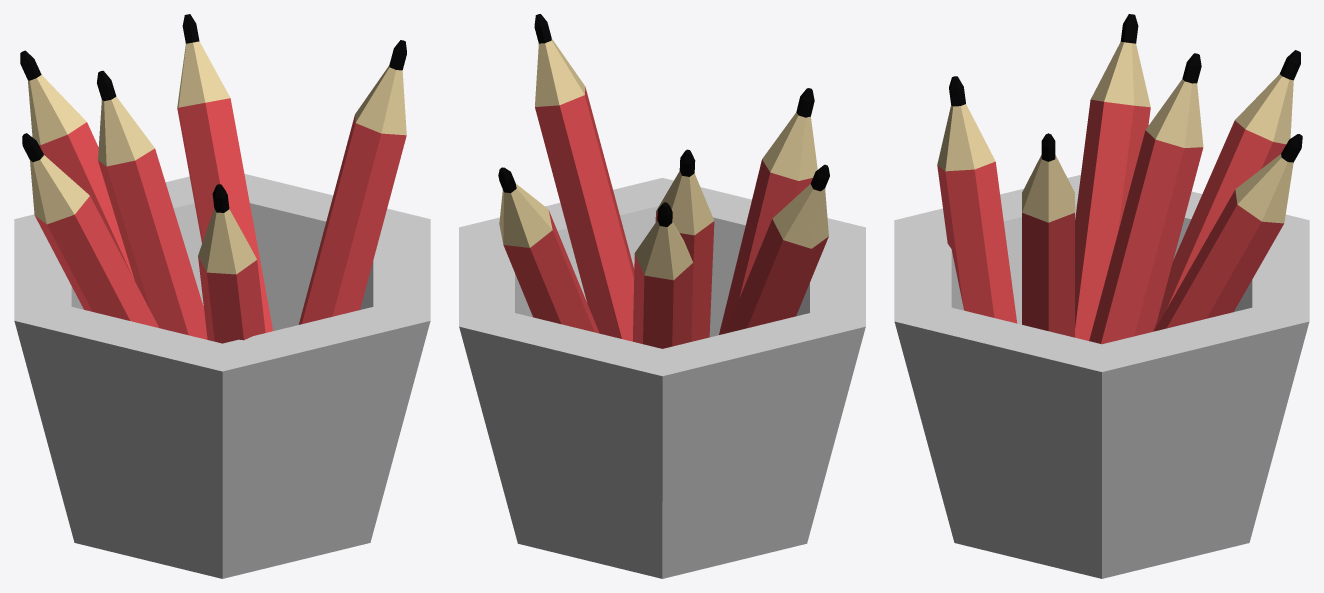
The model's file is PencilBowl.fbx.
3 views of the same model, side by side, from view 1: azimuth 30°, elevation 25°; view 2: azimuth 150°, elevation 25°; view 3: azimuth 270°, elevation 25° (orthographic). The views are drawn at different scales.
Parts seen in each view (by area): view 1: Pen002; view 2: Pen002; view 3: Pen002.
Part boxes in pixels (bbox=[...]): Pen002: bbox=[14, 14, 430, 578]; Pen002: bbox=[459, 14, 865, 578]; Pen002: bbox=[894, 14, 1309, 578].
Bounding box in the file's own units: 21.32 × 21.94 × 18.46.
